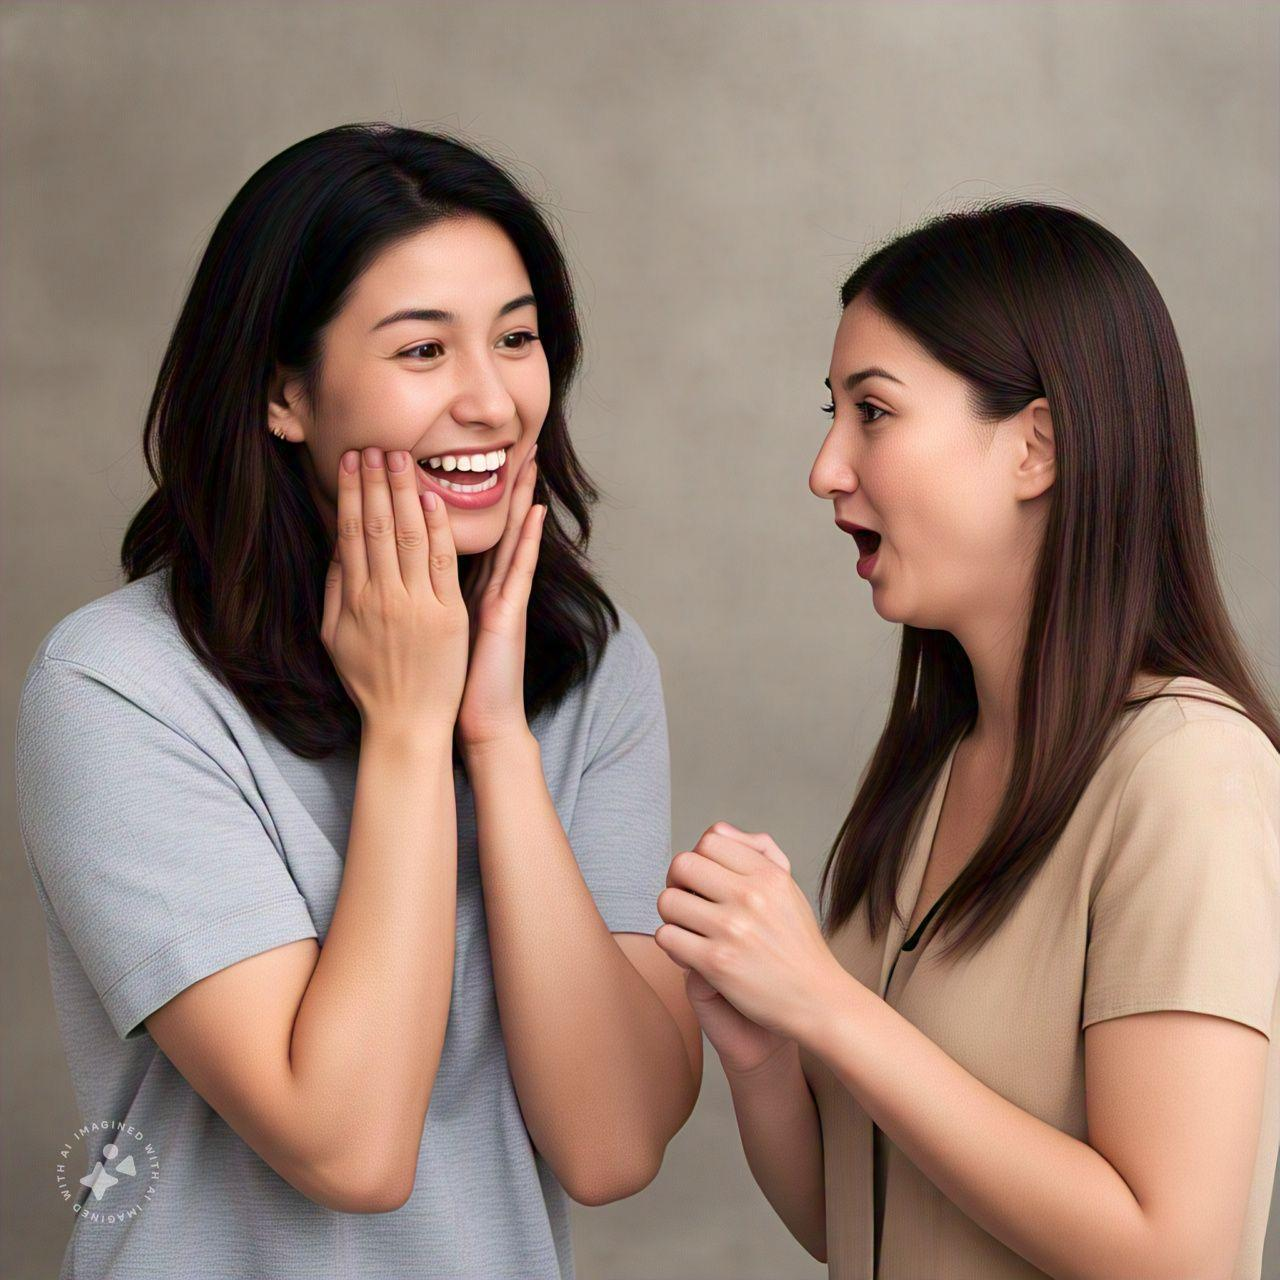feliz: (286, 198, 590, 586)
surpreso: (810, 278, 1098, 646)
